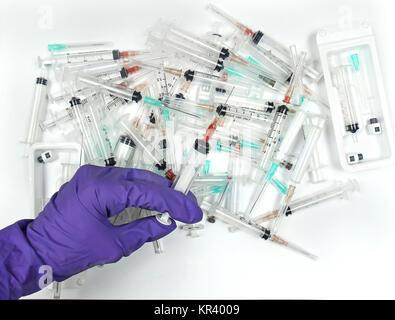Glove: (4, 165, 201, 297)
Syringe: (270, 117, 325, 233), (207, 4, 291, 74), (215, 208, 316, 259), (70, 97, 114, 165), (285, 179, 358, 215), (25, 68, 48, 145), (78, 74, 141, 101)
